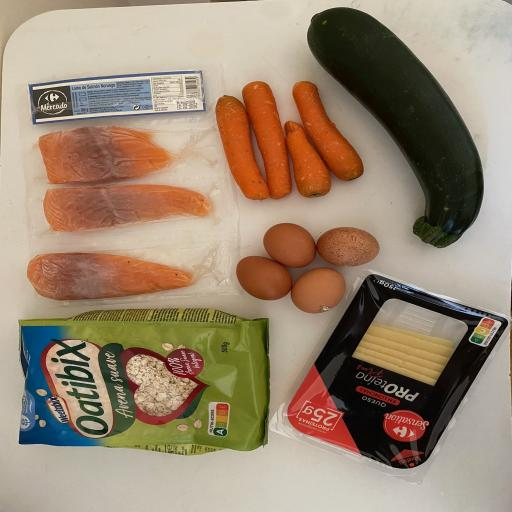carrot: (289, 78, 368, 184), (213, 91, 273, 204), (242, 78, 291, 202), (283, 118, 334, 200)
cheese: (282, 273, 508, 472)
courgette: (303, 4, 489, 252)
egg: (233, 253, 295, 303), (288, 266, 350, 316), (315, 223, 382, 269), (263, 220, 319, 270)
oat: (15, 306, 273, 457)
salmon: (39, 182, 217, 234), (26, 250, 198, 303), (36, 123, 175, 186)
